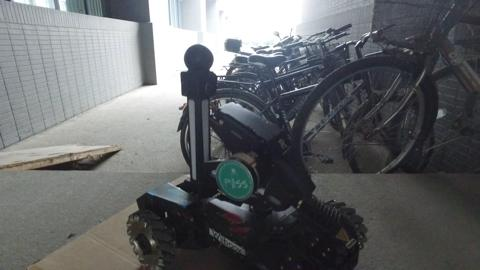bike: (271, 8, 480, 171)
chariot: (135, 43, 359, 267)
